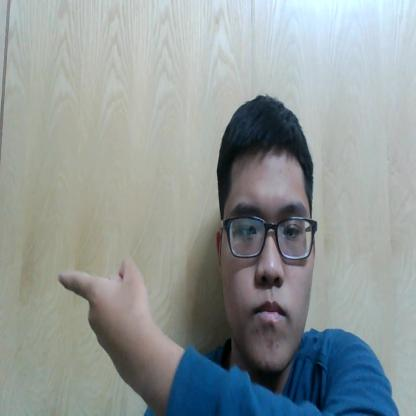right: (45, 252, 162, 398)
